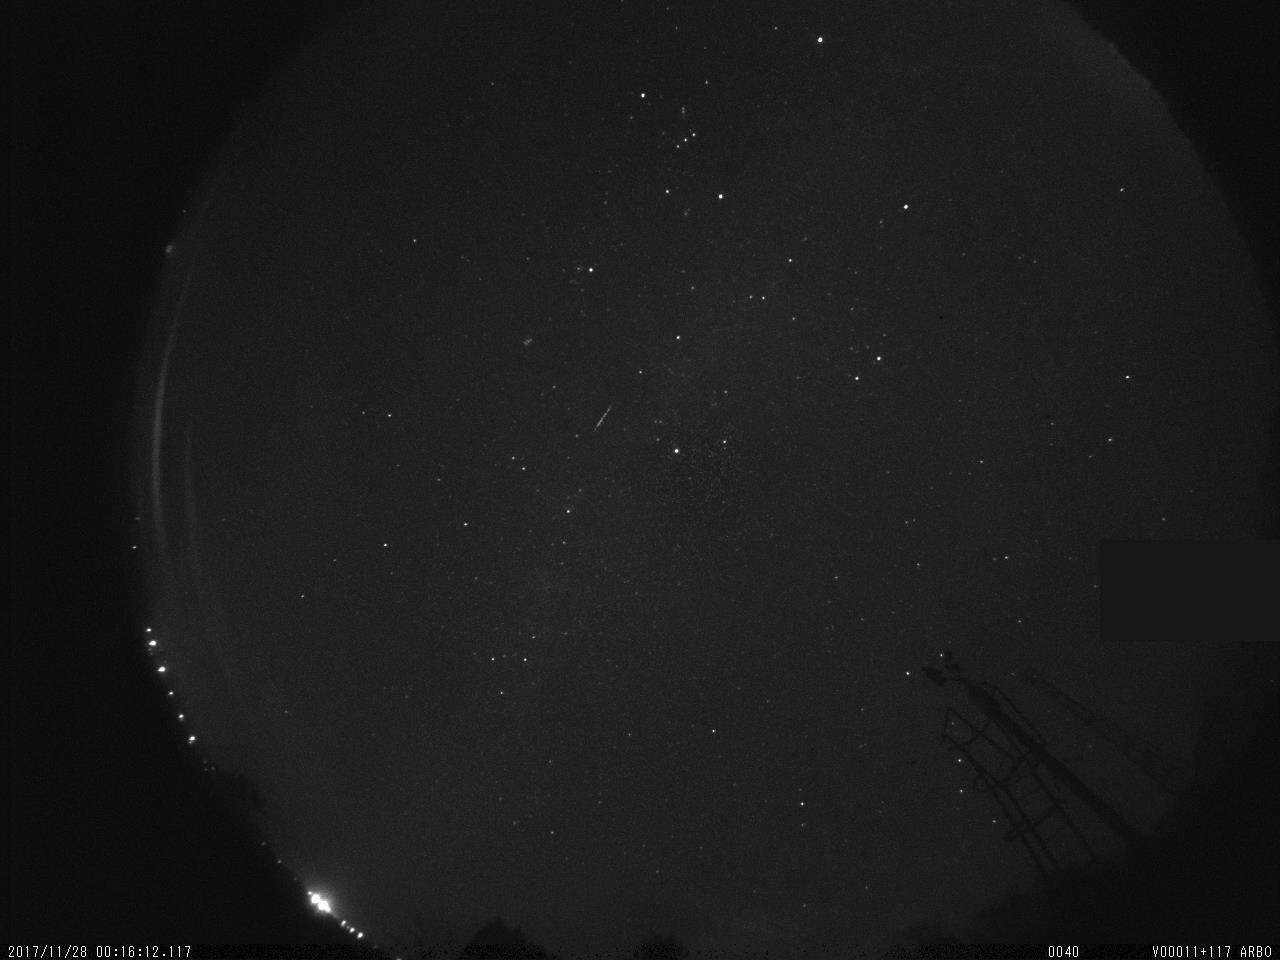meteor: (584, 402, 622, 435)
